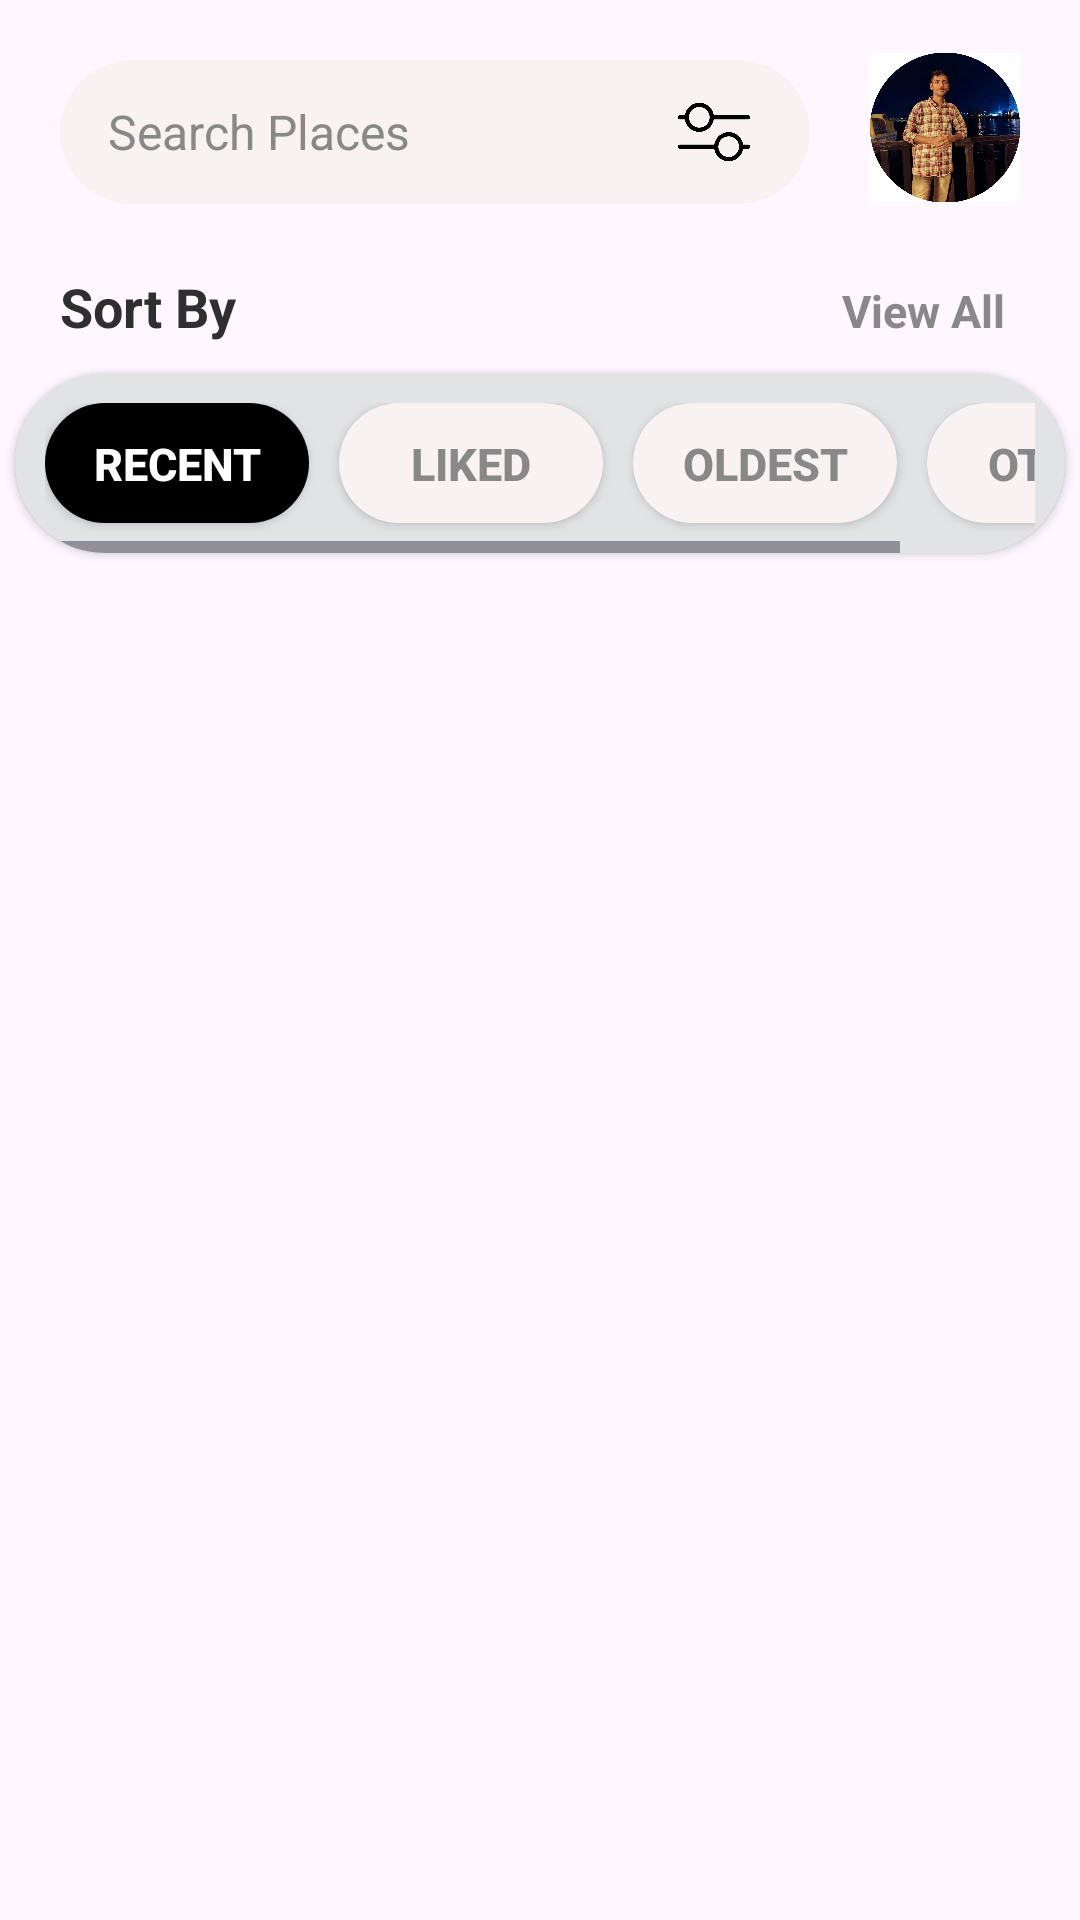

Icon bounding boxes for this 1080 × 1920 phone screenshot, format (x1, y1, x2, y2):
filter: (678, 103, 750, 161)
profile pic: (870, 53, 1020, 202)
